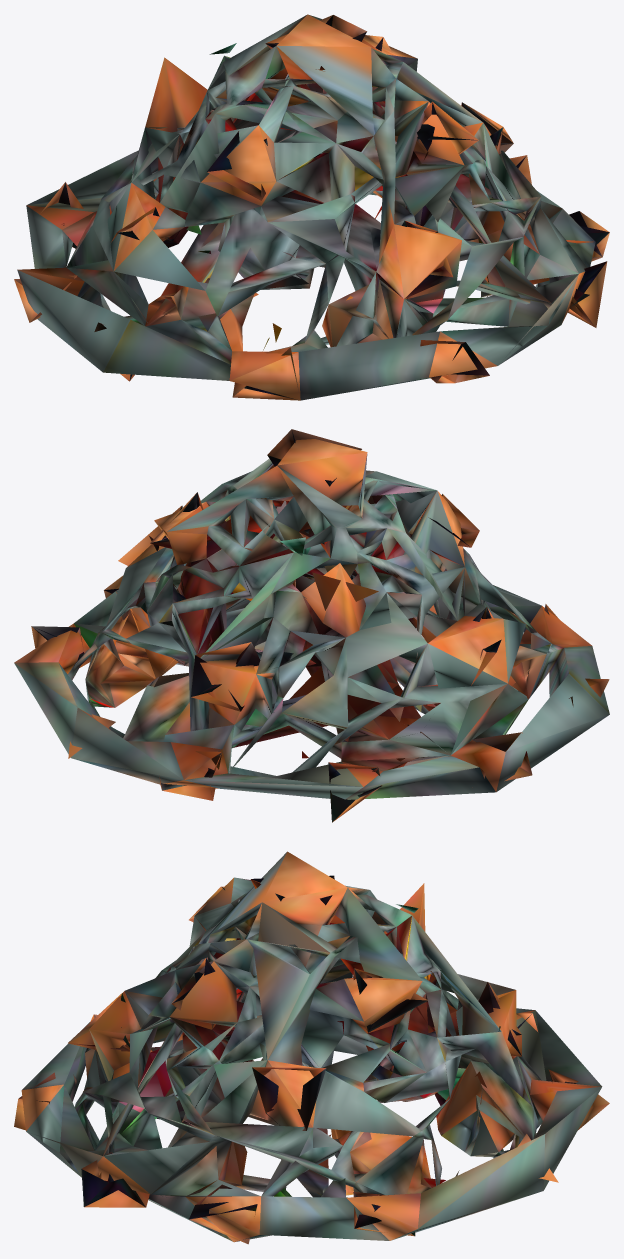
Rendered from lg-net-pile.glb.
3 views of the same model, one above another, from view 1: azimuth 30°, elevation 25°; view 2: azimuth 150°, elevation 25°; view 3: azimuth 270°, elevation 25° (orthographic). The views are drawn at different scales.
Visible parts, largest first — view 1: geometry_0; view 2: geometry_0; view 3: geometry_0.
Boxes of the visible parts, x1,y1,x2,y2 form: geometry_0: (14, 14, 609, 400); geometry_0: (14, 429, 609, 822); geometry_0: (14, 851, 609, 1244).
Bounding box in the file's own units: 0.9664 × 0.4864 × 1.
Materials: 1 (1 with a texture image).
